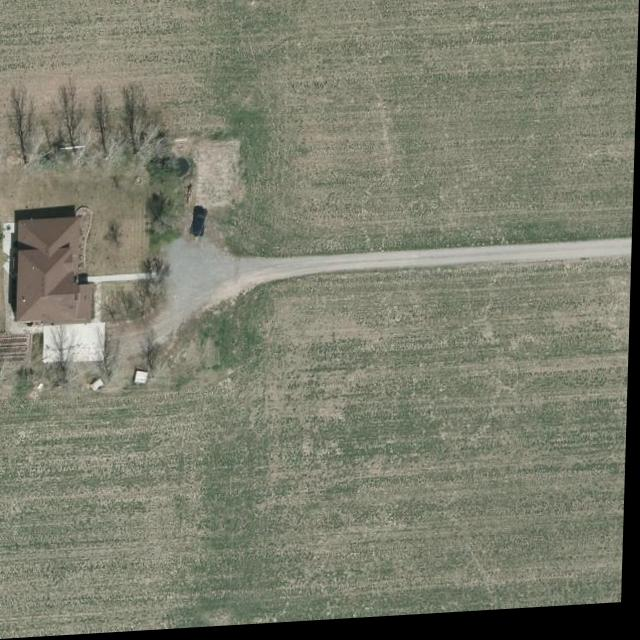vehicle: (192, 210, 209, 240)
